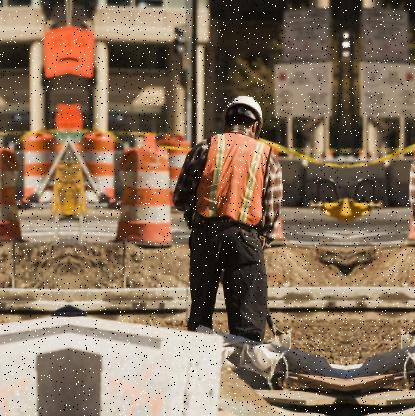helmet: (223, 92, 264, 144)
